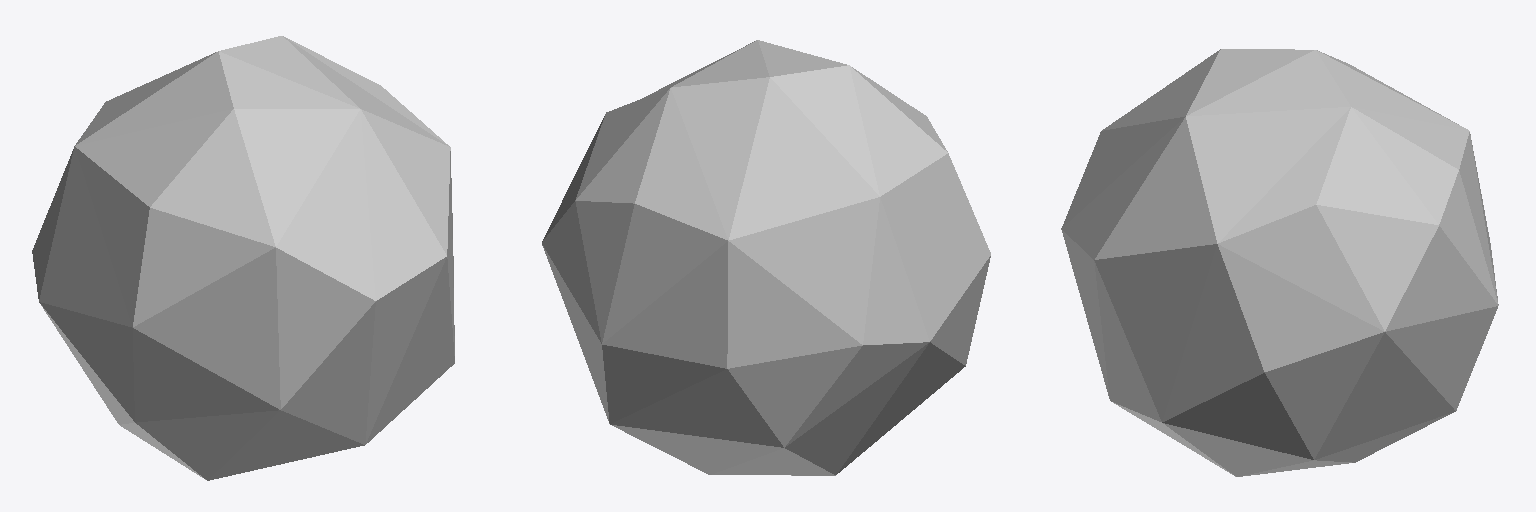
Rendered from Test_Smoke.obj.
3 views of the same model, side by side, from view 1: azimuth 30°, elevation 25°; view 2: azimuth 150°, elevation 25°; view 3: azimuth 270°, elevation 25° (orthographic).
Bounding box in the file's own units: 0.188 × 0.1864 × 0.1878.